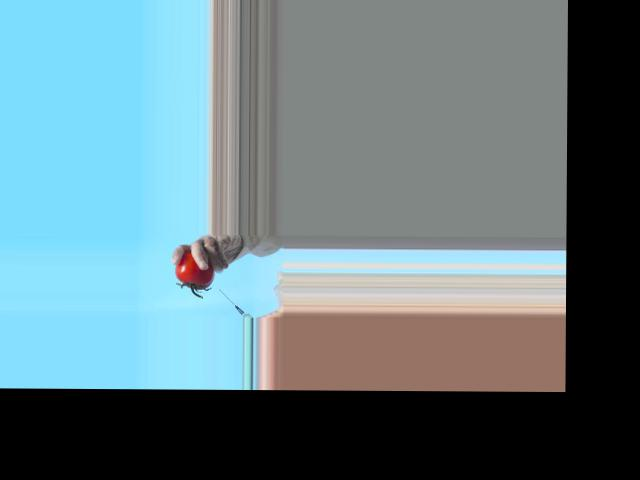tomato: (174, 250, 214, 289)
